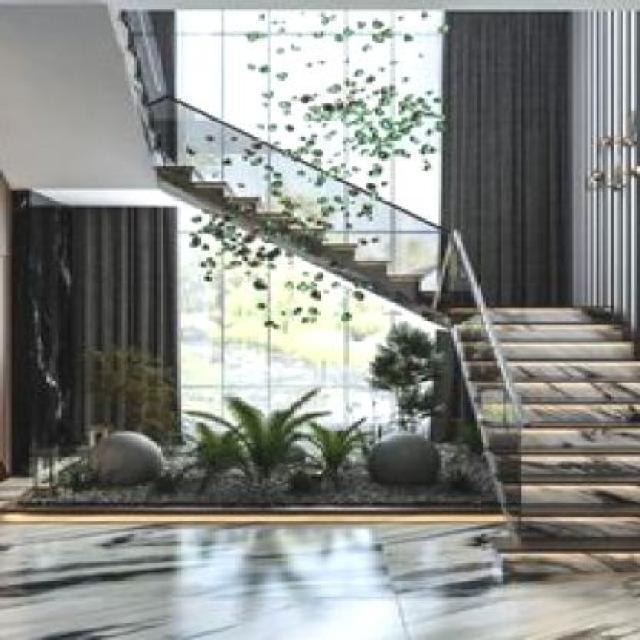stair: (465, 225, 638, 578)
